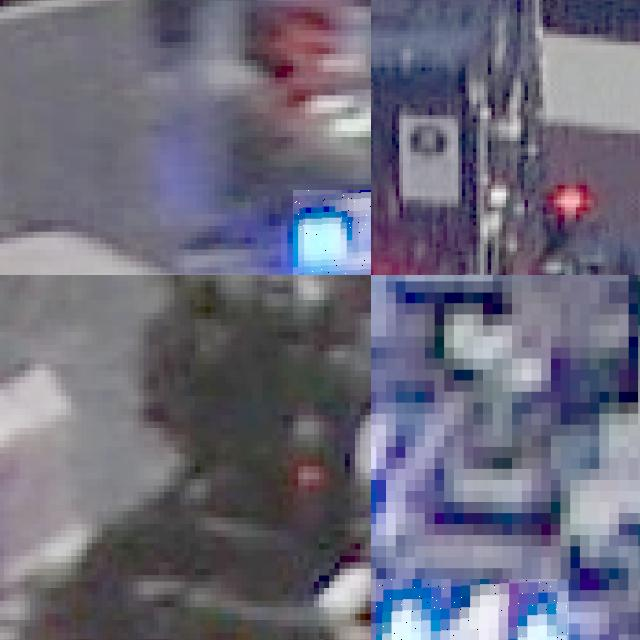B2: (293, 190, 371, 275)
B4: (376, 579, 570, 640)
